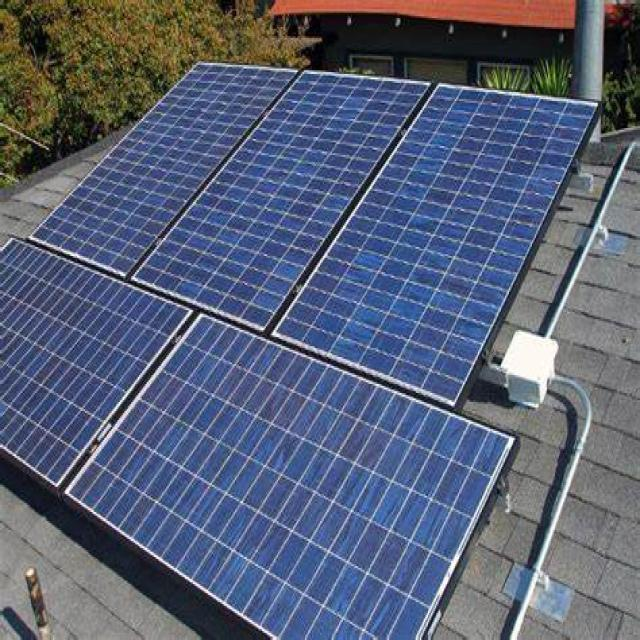clean: (10, 66, 589, 639)
